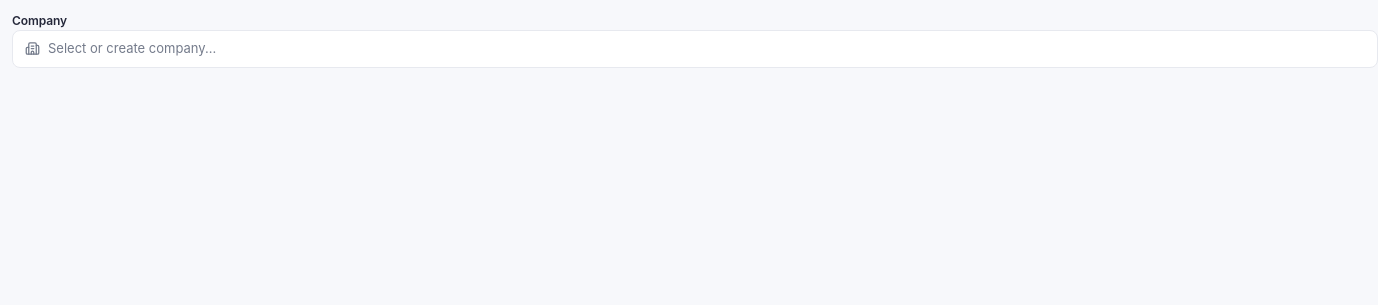
Test: CompanySelectWithCreate › renders existing companies when dropdown is opened
// Click the main selector to open dropdown
What coordinates should you click on to do the following:
click the text "Select or create company..."
I would click on:
 (132, 49)
Its box is [48,39,216,58].
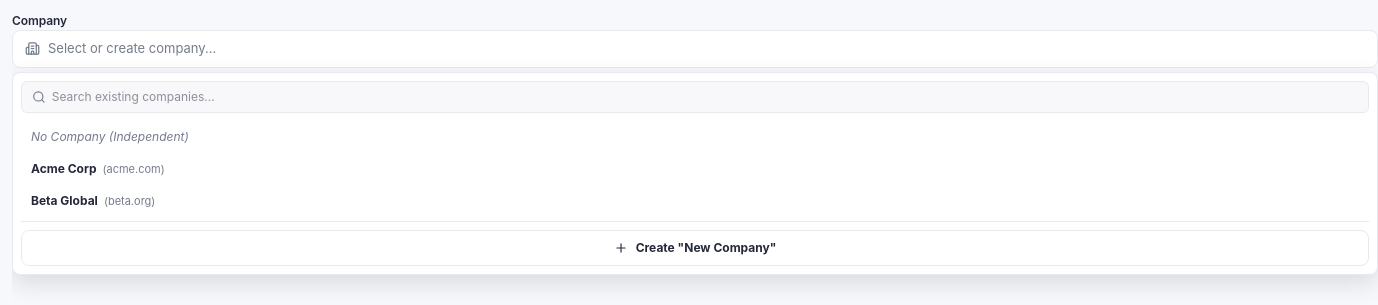
Expected: the text "Acme Corp" is shown, [31,160,96,176]
Expected: the text "Beta Global" is shown, [31,192,98,208]
